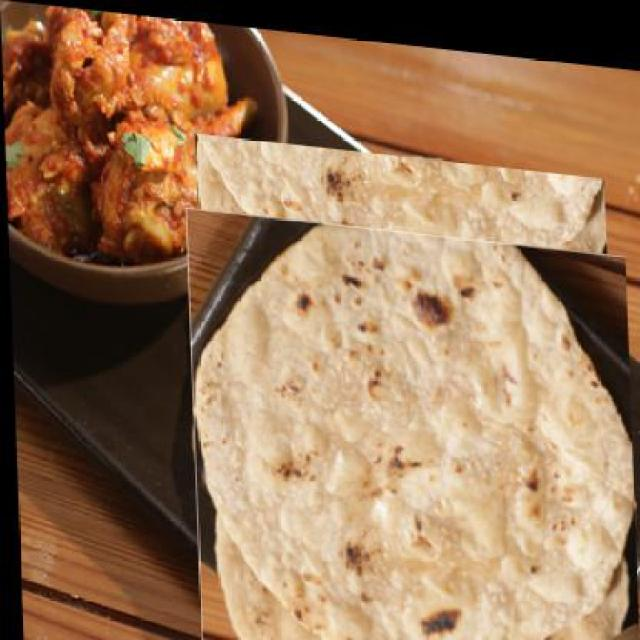chapati: (183, 203, 639, 639), (194, 128, 612, 394)
